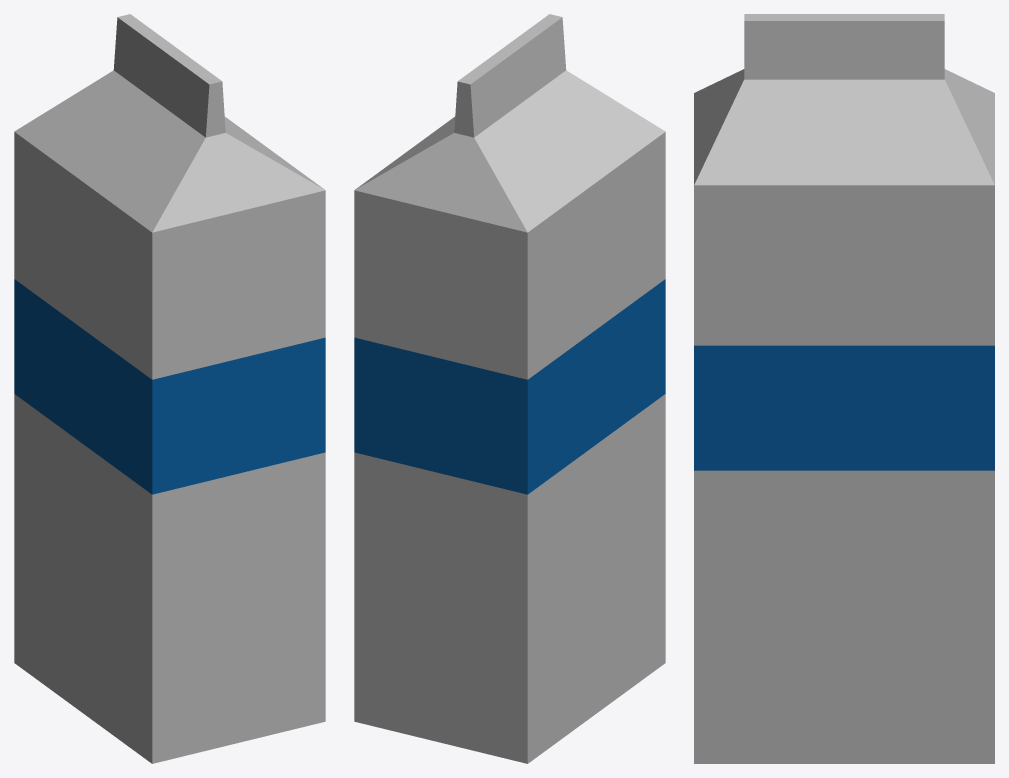
Rendered from Milk.fbx.
3 views of the same model, side by side, from view 1: azimuth 30°, elevation 25°; view 2: azimuth 150°, elevation 25°; view 3: azimuth 270°, elevation 25° (orthographic). The views are drawn at different scales.
Parts seen in each view (by area): view 1: Milk; view 2: Milk; view 3: Milk.
Boxes of the visible parts, bbox=[...] form: Milk: bbox=[14, 14, 325, 763]; Milk: bbox=[354, 14, 665, 763]; Milk: bbox=[694, 14, 994, 763].
Size of the model in its own units: 193 by 683 by 266.
